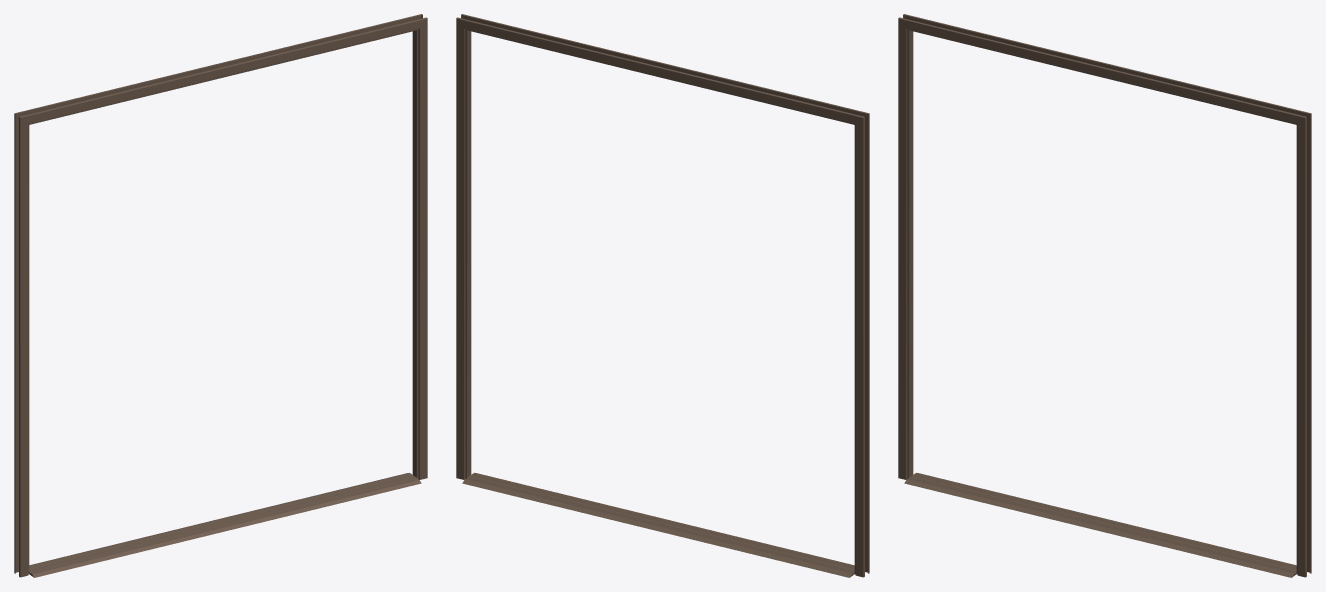
Rendered from Kit_DoorFrame_SteelPair_DA.fbx.
3 renders of one model, left to right at view 1: azimuth 30°, elevation 25°; view 2: azimuth 150°, elevation 25°; view 3: azimuth 330°, elevation 25°, orthographic.
Visible parts, largest first — view 1: Kit_DoorFrame_SteelPair_DA_LOD0; view 2: Kit_DoorFrame_SteelPair_DA_LOD0; view 3: Kit_DoorFrame_SteelPair_DA_LOD0.
Boxes of the visible parts, left/top/right/bottom form: Kit_DoorFrame_SteelPair_DA_LOD0: left=14, top=14, right=427, bottom=577; Kit_DoorFrame_SteelPair_DA_LOD0: left=456, top=14, right=869, bottom=577; Kit_DoorFrame_SteelPair_DA_LOD0: left=898, top=14, right=1311, bottom=577.
Size of what is drawn, in the model's own units: 2.53 by 2.72 by 0.152.
